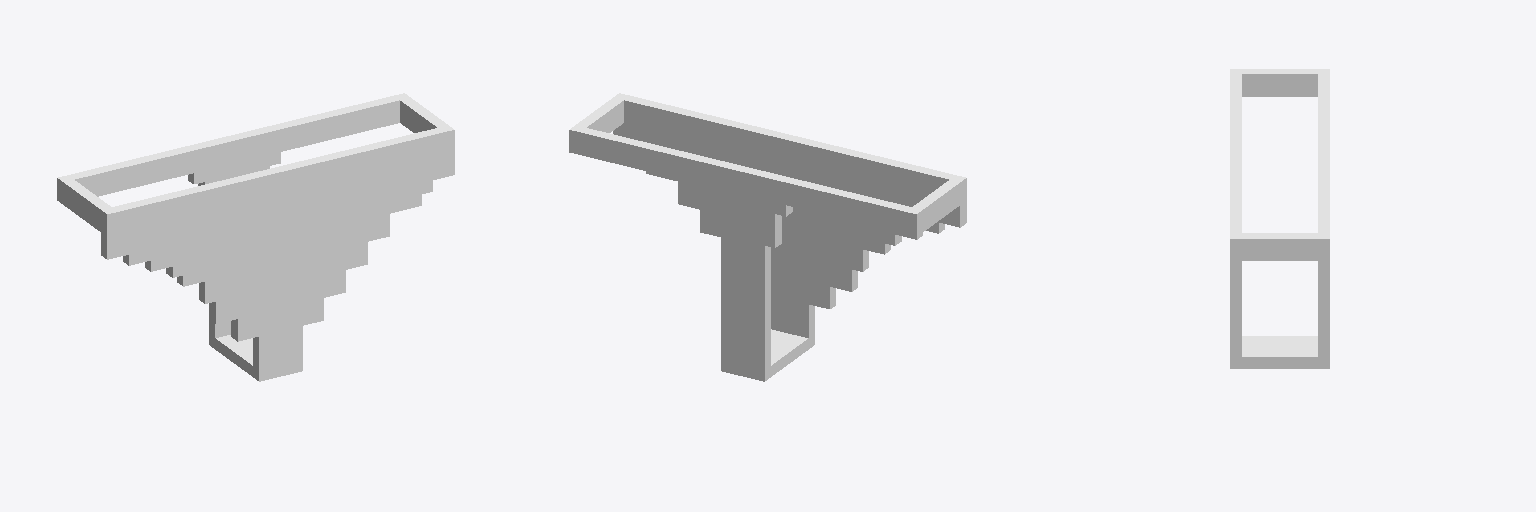
File: trusi.obj
The picture shows the model from 3 angles: view 1: azimuth 30°, elevation 25°; view 2: azimuth 150°, elevation 25°; view 3: azimuth 270°, elevation 25°; orthographic projection.
Parts seen in each view (by area): view 1: object 1; view 2: object 1; view 3: object 1.
Part boxes in pixels (x1,y1,x2,y2): object 1: (57, 93, 454, 381); object 1: (569, 93, 966, 381); object 1: (1230, 69, 1329, 368).
Size of the model in its own units: 3.2 by 1.8 by 0.8.